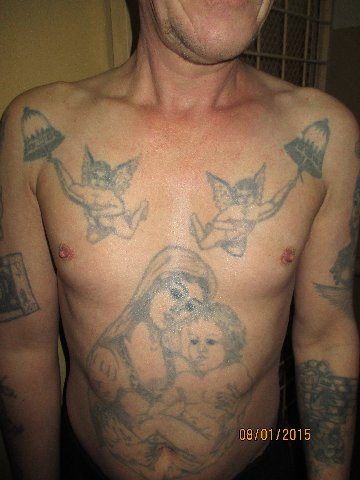tatu1_angel: (45, 130, 161, 245), (194, 146, 272, 269)
tatu2_bogorodica: (79, 240, 274, 448)
